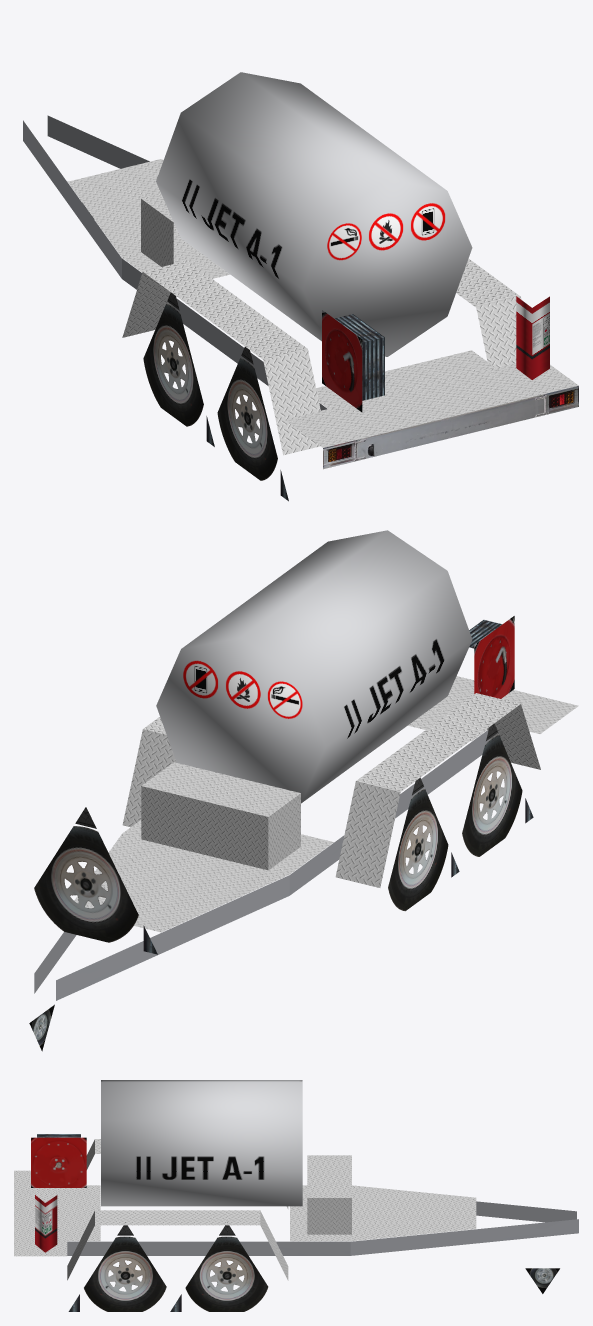
Rendered from fuel-trailer2-5m-cbj_LOD05.gltf.
3 renders of one model, top to bottom at view 1: azimuth 30°, elevation 25°; view 2: azimuth 150°, elevation 25°; view 3: azimuth 270°, elevation 25°, orthographic. The views are drawn at different scales.
Parts seen in each view (by area): view 1: fuel-trailer2-5; view 2: fuel-trailer2-5; view 3: fuel-trailer2-5.
Part boxes in pixels (left/top/right/bottom): fuel-trailer2-5: left=23, top=72, right=578, bottom=501; fuel-trailer2-5: left=29, top=530, right=578, bottom=1051; fuel-trailer2-5: left=14, top=1080, right=578, bottom=1311.
Bounding box in the file's own units: 1.82 × 1.97 × 5.04.
